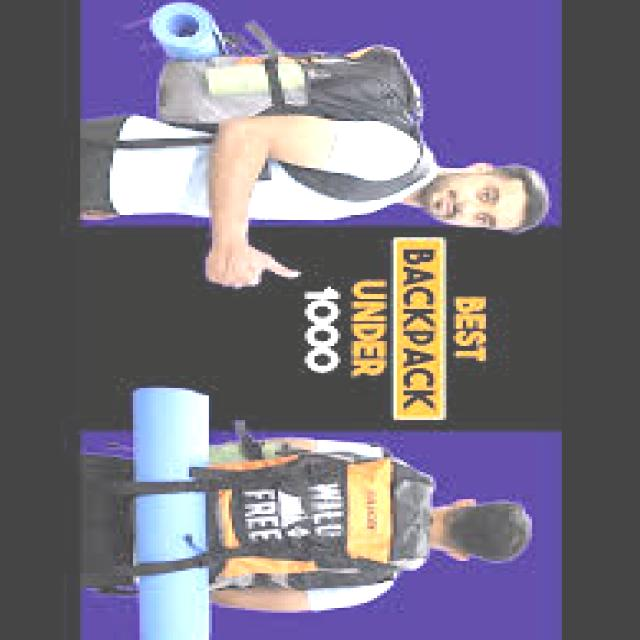backpack: (109, 434, 442, 598), (156, 46, 433, 202)
